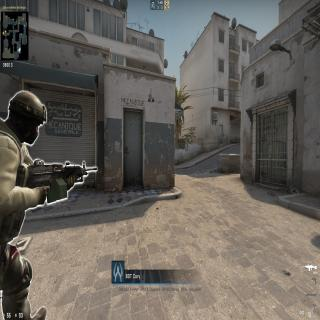CT-Head: (5, 88, 48, 153)
